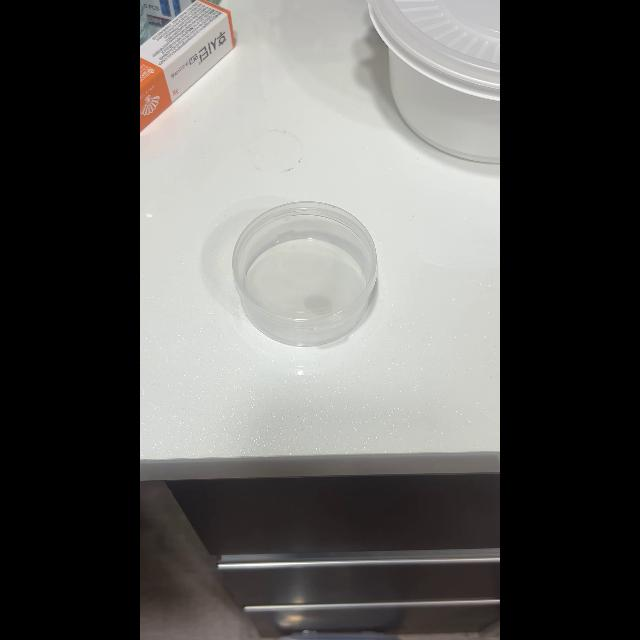clean: (232, 190, 372, 344)
